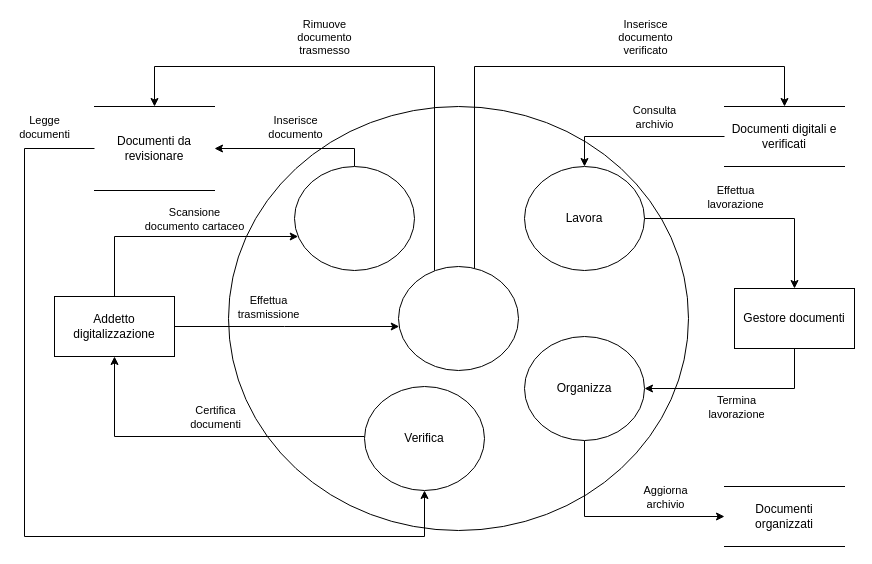
This 872x564 diagram has some shape labels left out. The centre of each missing label's shape, as x and y in pixels:
"Scansiona" belongs at point 354,218.
"Trasmette" belongs at point 458,318.
